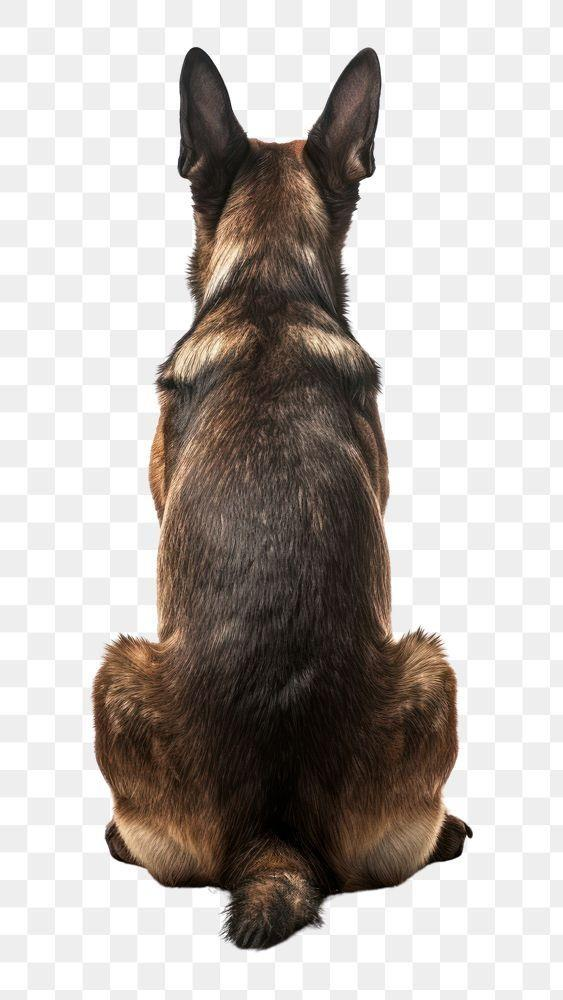adult_dog: (88, 45, 474, 953)
